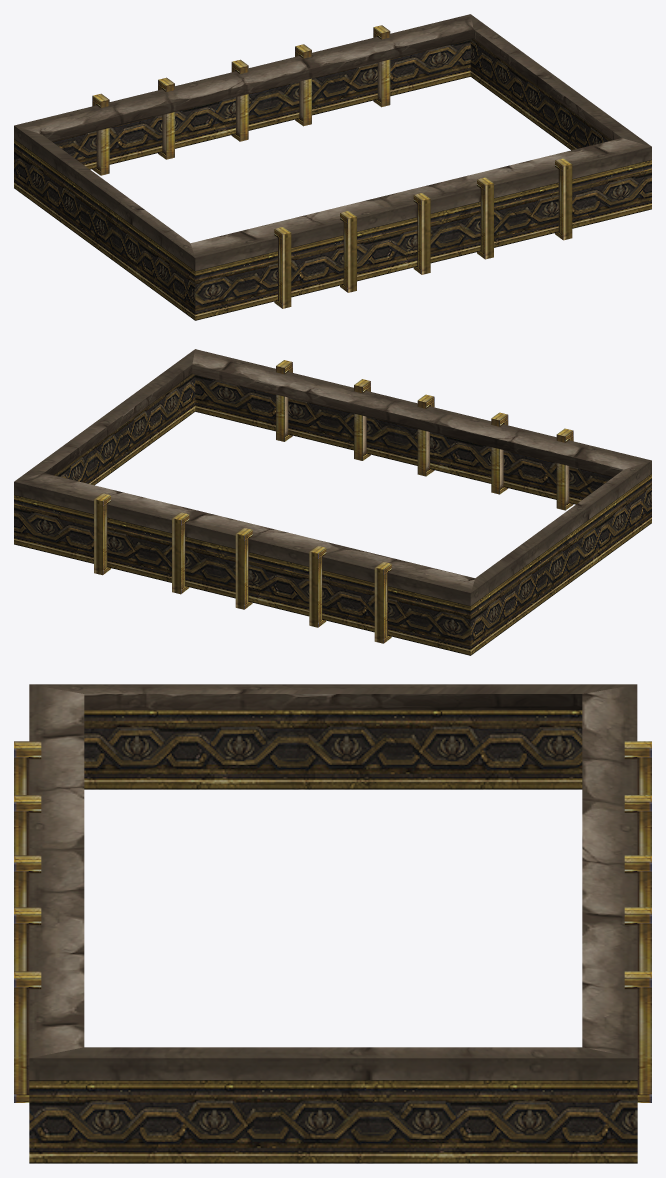
Rendered from A03_move_b.FBX.
The picture shows the model from 3 angles, top to bottom: view 1: azimuth 30°, elevation 25°; view 2: azimuth 150°, elevation 25°; view 3: azimuth 270°, elevation 25°; orthographic projection. The views are drawn at different scales.
Parts seen in each view (by area): view 1: A03_move_b; view 2: A03_move_b; view 3: A03_move_b.
Part boxes in pixels (x1,y1,x2,y2): A03_move_b: [14, 14, 651, 320]; A03_move_b: [14, 349, 651, 655]; A03_move_b: [14, 684, 651, 1163].
Size of the model in its own units: 7.25 by 1.12 by 5.23.
